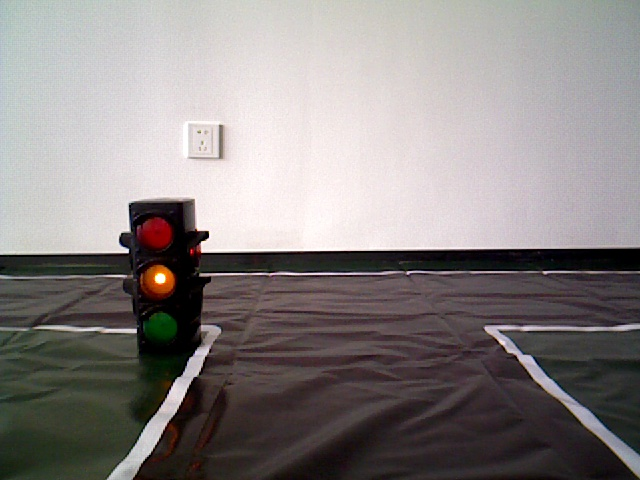yellow: (124, 195, 204, 352)
